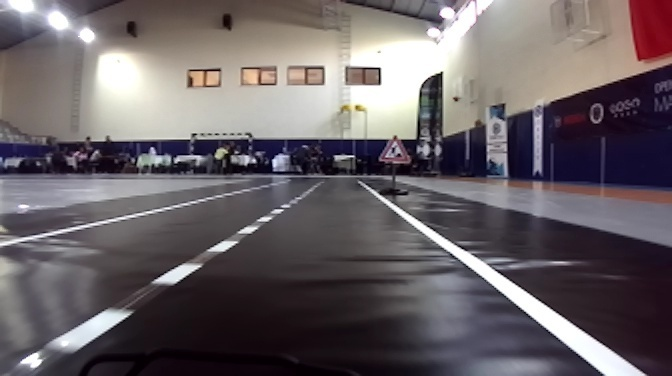yol_yapimi: (374, 135, 413, 168)
